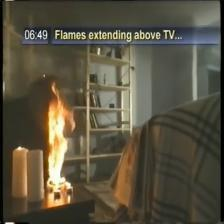fire: (43, 81, 74, 188)
